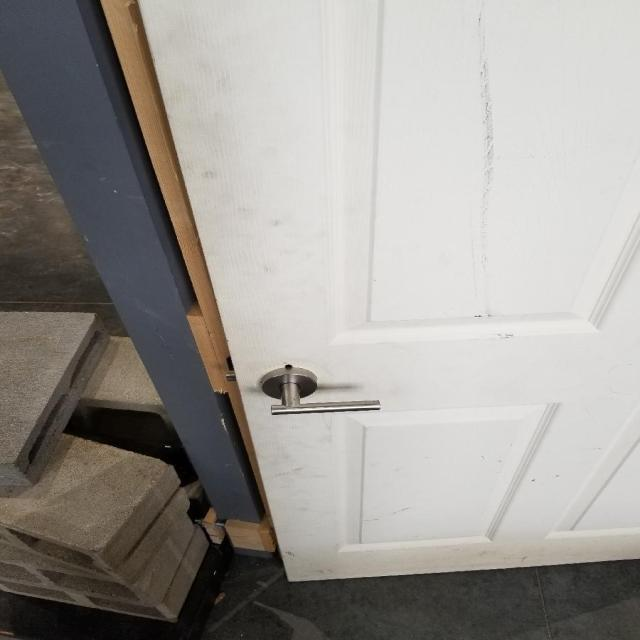door: (255, 364, 384, 421)
